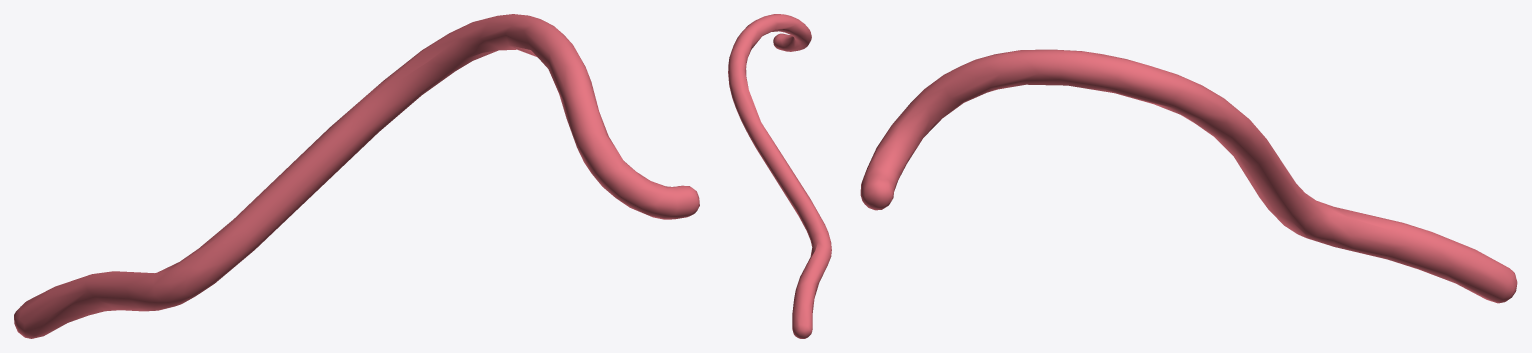
Rendered from fma66456_fj5122.glb.
3 renders of one model, left to right at view 1: azimuth 30°, elevation 25°; view 2: azimuth 150°, elevation 25°; view 3: azimuth 270°, elevation 25°, orthographic. The views are drawn at different scales.
Parts seen in each view (by area): view 1: FMA66456_FJ5122; view 2: FMA66456_FJ5122; view 3: FMA66456_FJ5122.
Part boxes in pixels (<box>): FMA66456_FJ5122: <box>14,14,699,338</box>; FMA66456_FJ5122: <box>728,14,831,338</box>; FMA66456_FJ5122: <box>860,49,1517,303</box>.
Size of the model in its own units: 0.0258 by 0.0256 by 0.0382.
